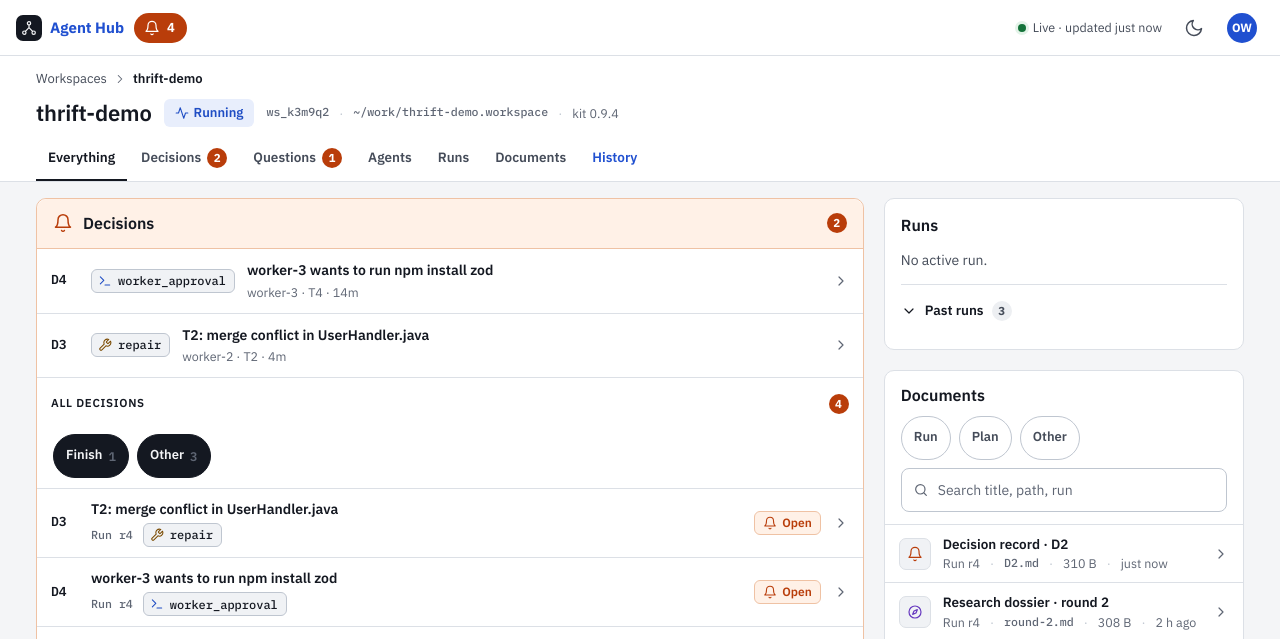
Test: Workspace Decisions and Documents › shows inbox decisions only in Questions and labels their ids Q<n>
Expected: the text "No active run." is shown, [901,251,987,269]
Click the button "Decisions 2". click: (184, 159)
box: [129,137,239,181]
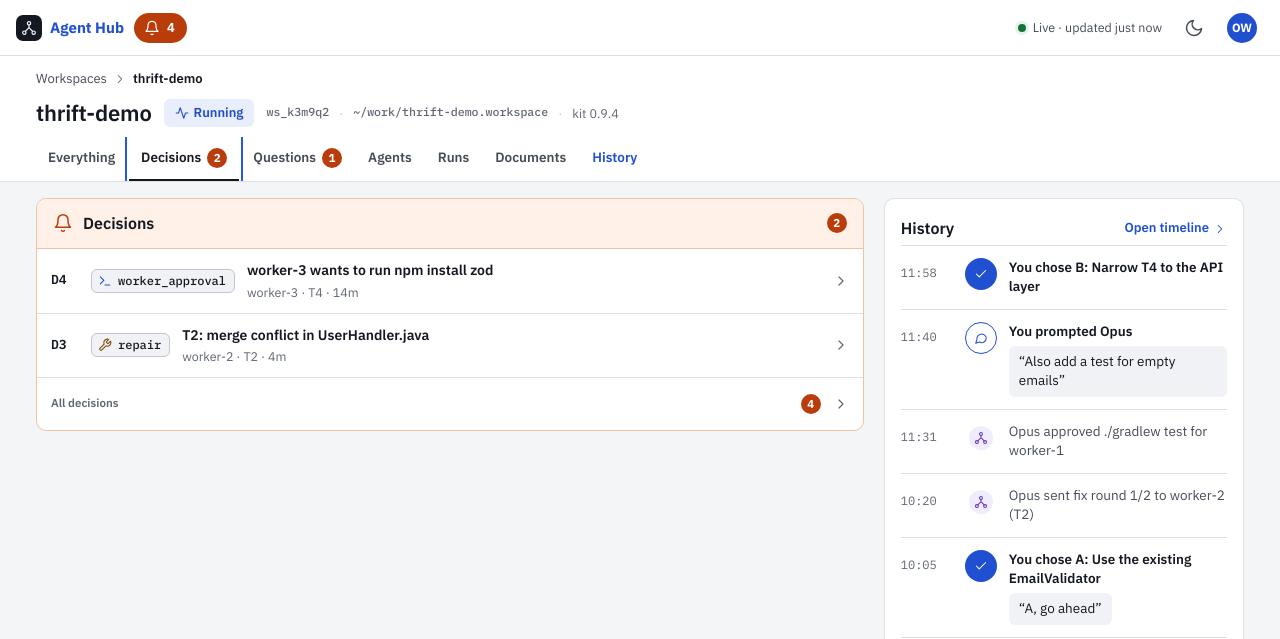
Click the button "Questions 1". click: (298, 159)
box: [241,137,354,181]
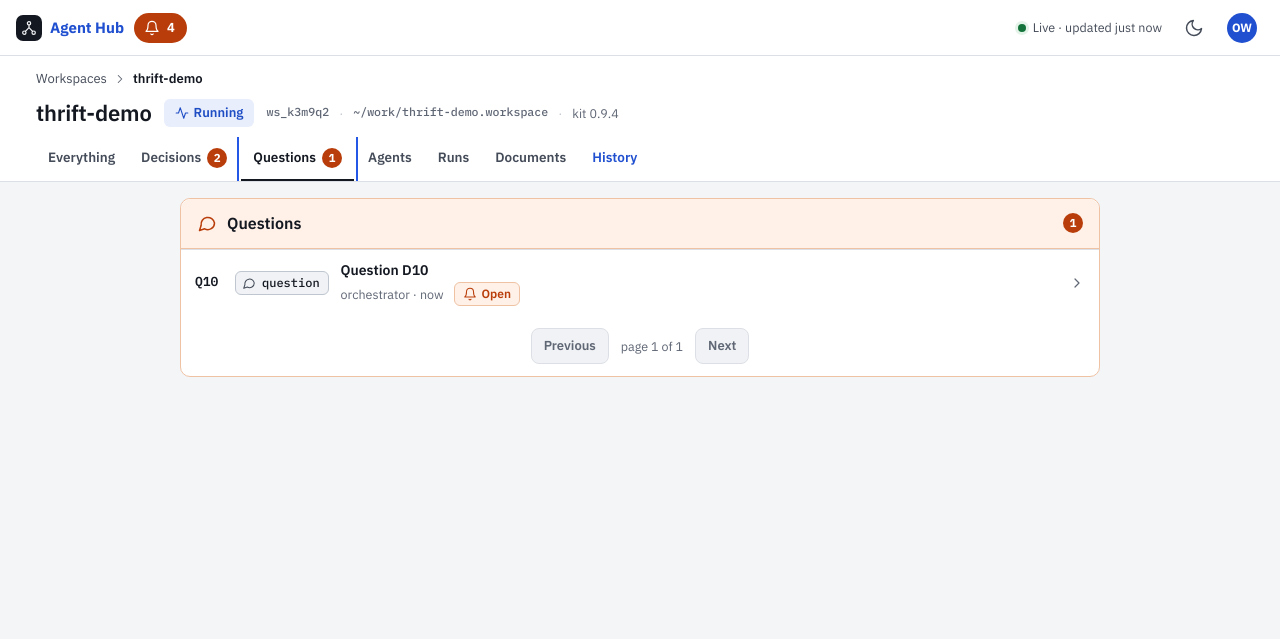
Result: the text "Question D10" is shown at [341,261,428,279]
